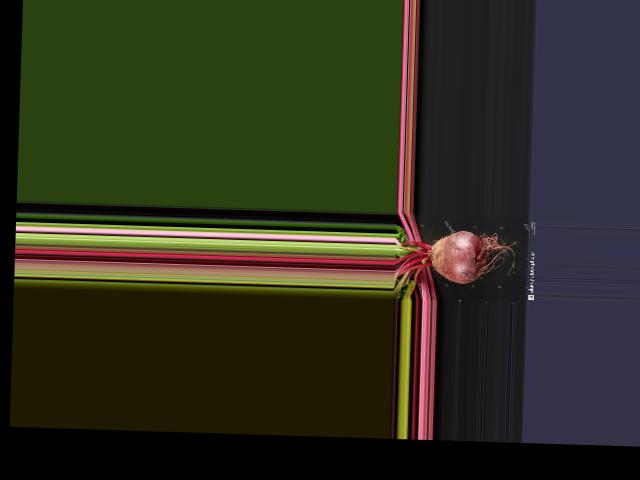beet: (393, 228, 521, 303)
